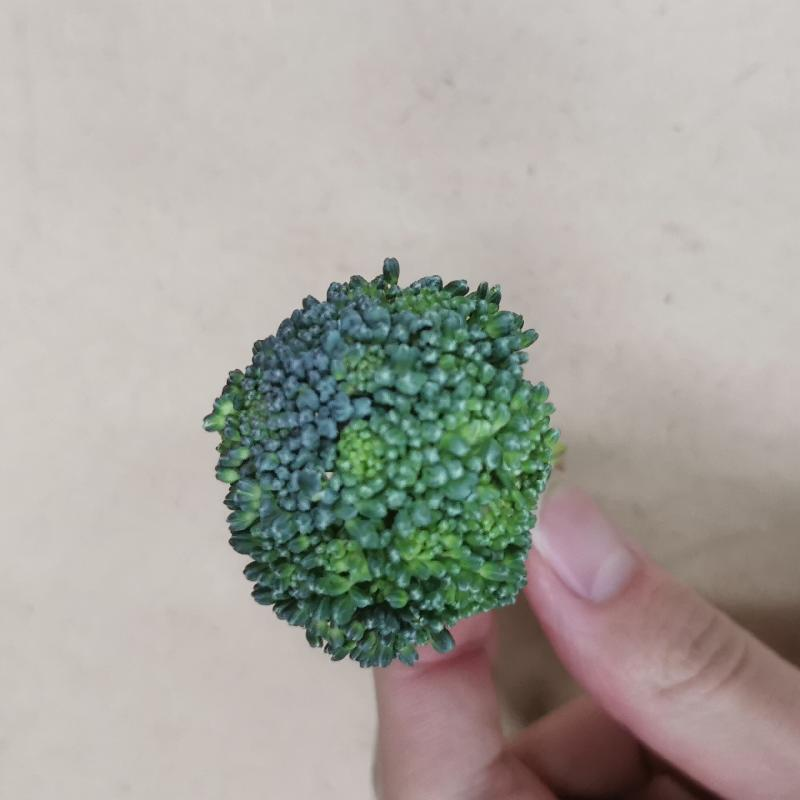broccoli: (187, 258, 565, 667)
